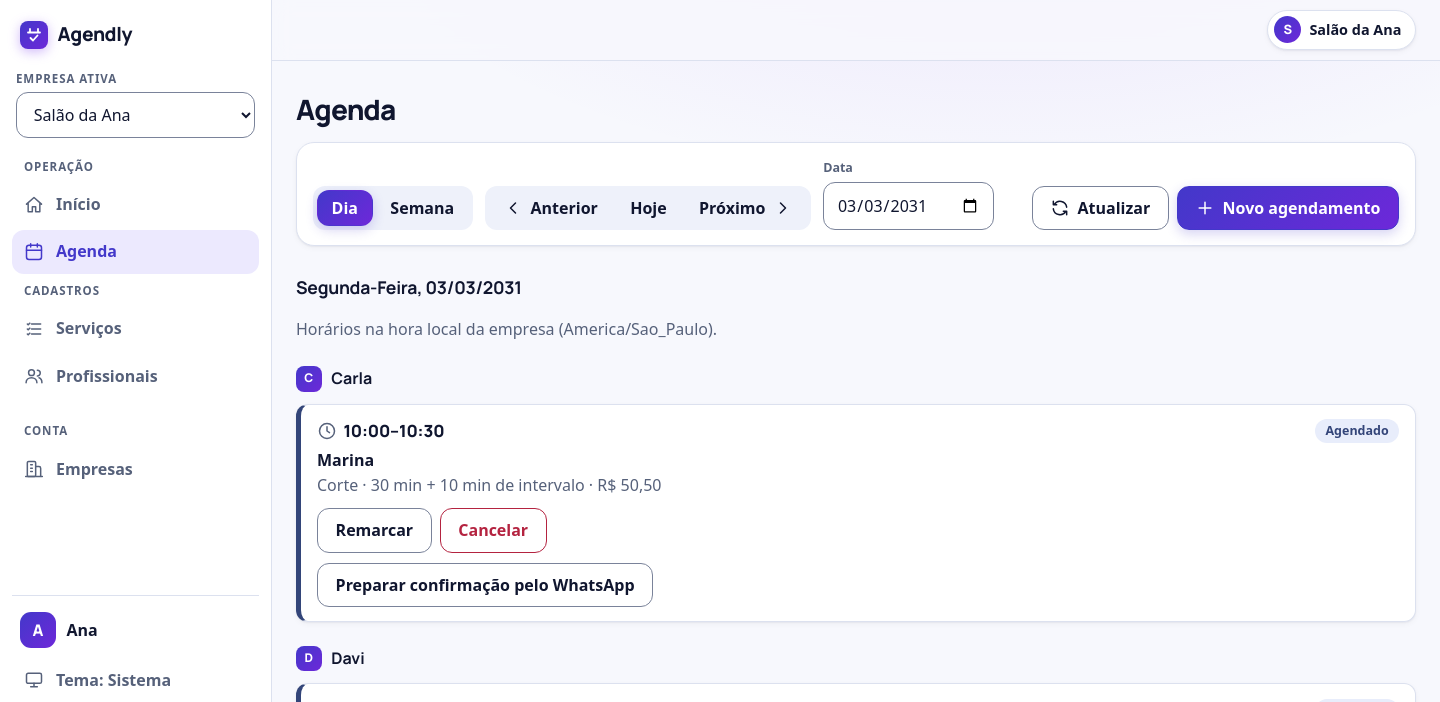
Test: estados da tela › 'Atualizar' relê a agenda e mostra o que mudou
Click the button "Atualizar" at (1100, 208), box [1032,186,1169,230]
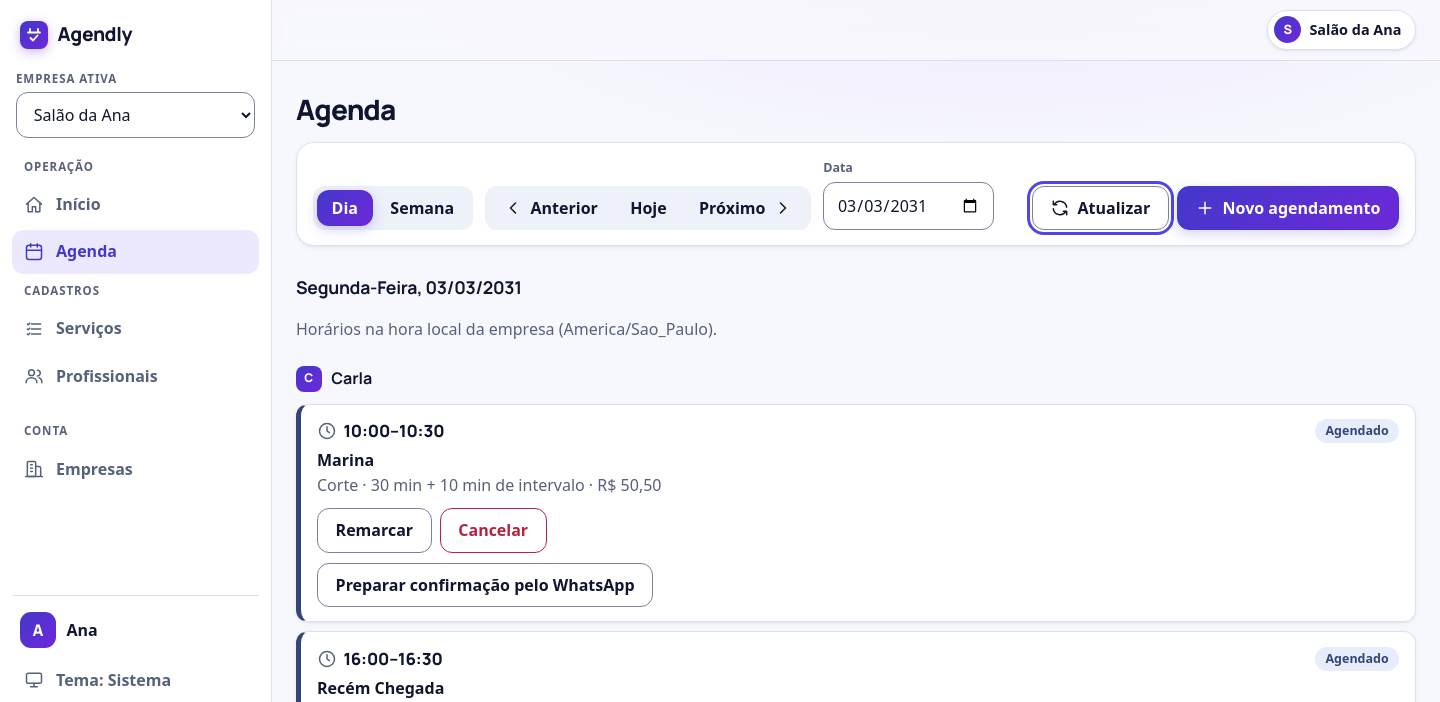
Expected: the text "Recém Chegada" is shown, [317,677,444,699]
